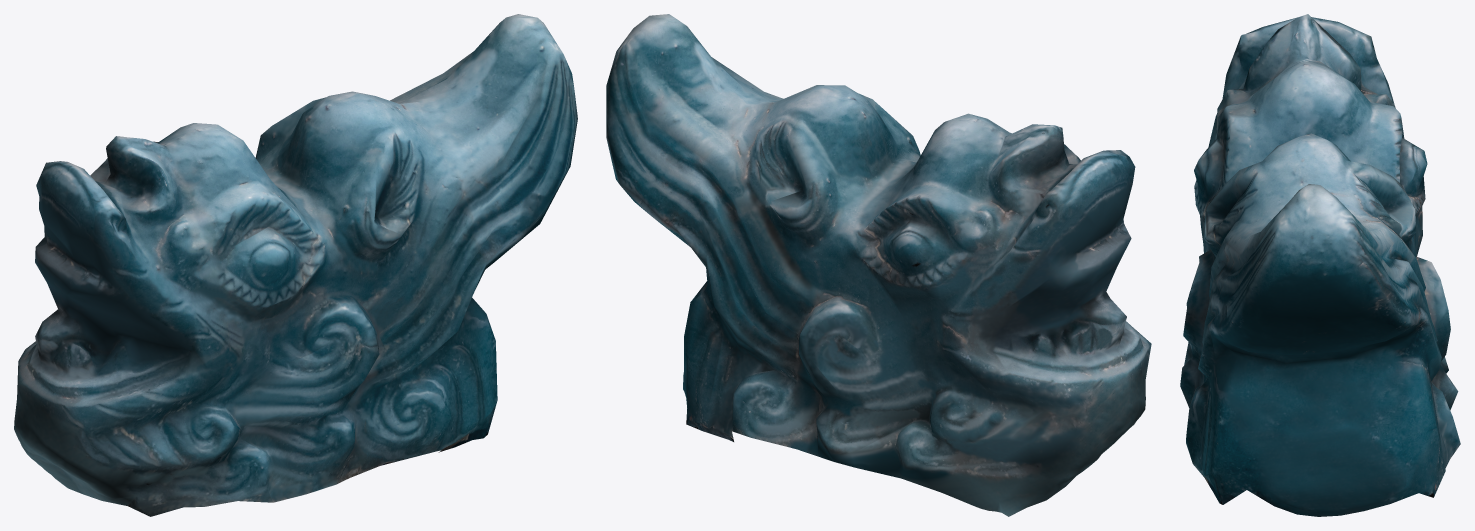
File: SM_RoofOrnament07D.fbx
3 views of the same model, side by side, from view 1: azimuth 30°, elevation 25°; view 2: azimuth 150°, elevation 25°; view 3: azimuth 270°, elevation 25° (orthographic). The views are drawn at different scales.
Parts seen in each view (by area): view 1: SM_RoofOrnament07D; view 2: SM_RoofOrnament07D; view 3: SM_RoofOrnament07D.
Boxes of the visible parts, <box> form: SM_RoofOrnament07D: <box>14,14,577,516</box>; SM_RoofOrnament07D: <box>606,14,1151,516</box>; SM_RoofOrnament07D: <box>1180,14,1460,516</box>.
Size of the model in its own units: 66.89 by 31.06 by 45.53.
